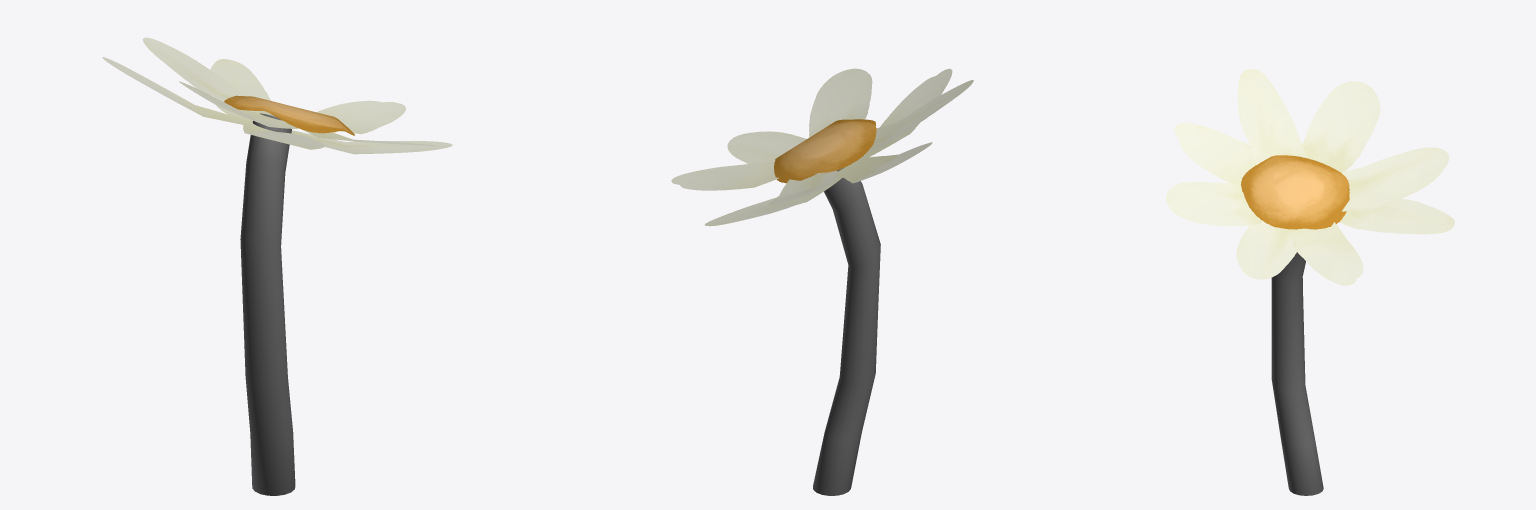
The model's file is _loem1_V1.fbx.
3 renders of one model, left to right at view 1: azimuth 30°, elevation 25°; view 2: azimuth 150°, elevation 25°; view 3: azimuth 270°, elevation 25°, orthographic. The views are drawn at different scales.
Visible parts, largest first — view 1: Cylinder.001; view 2: Cylinder.001; view 3: Cylinder.001.
Boxes of the visible parts, bbox=[...] form: Cylinder.001: bbox=[102, 37, 452, 495]; Cylinder.001: bbox=[671, 68, 973, 495]; Cylinder.001: bbox=[1166, 69, 1454, 495].
Size of the model in its own units: 115 by 124 by 124.
2 materials, 1 textured.
